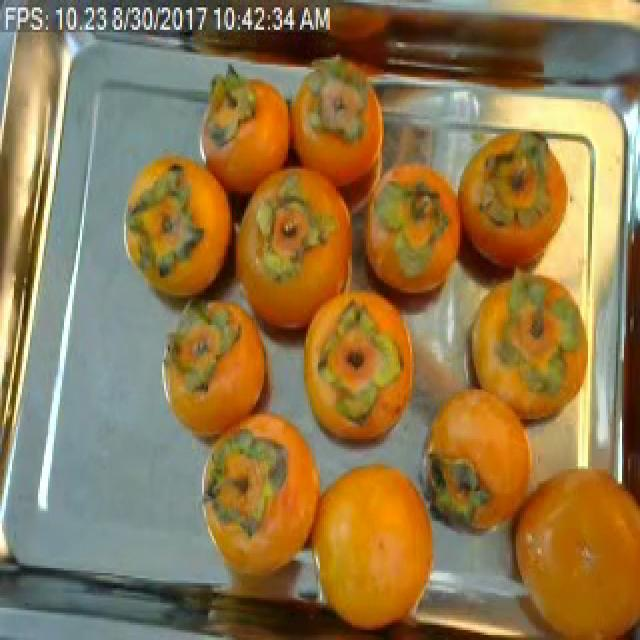Fruit: (290, 441, 442, 640), (150, 283, 284, 456), (116, 139, 236, 320)
